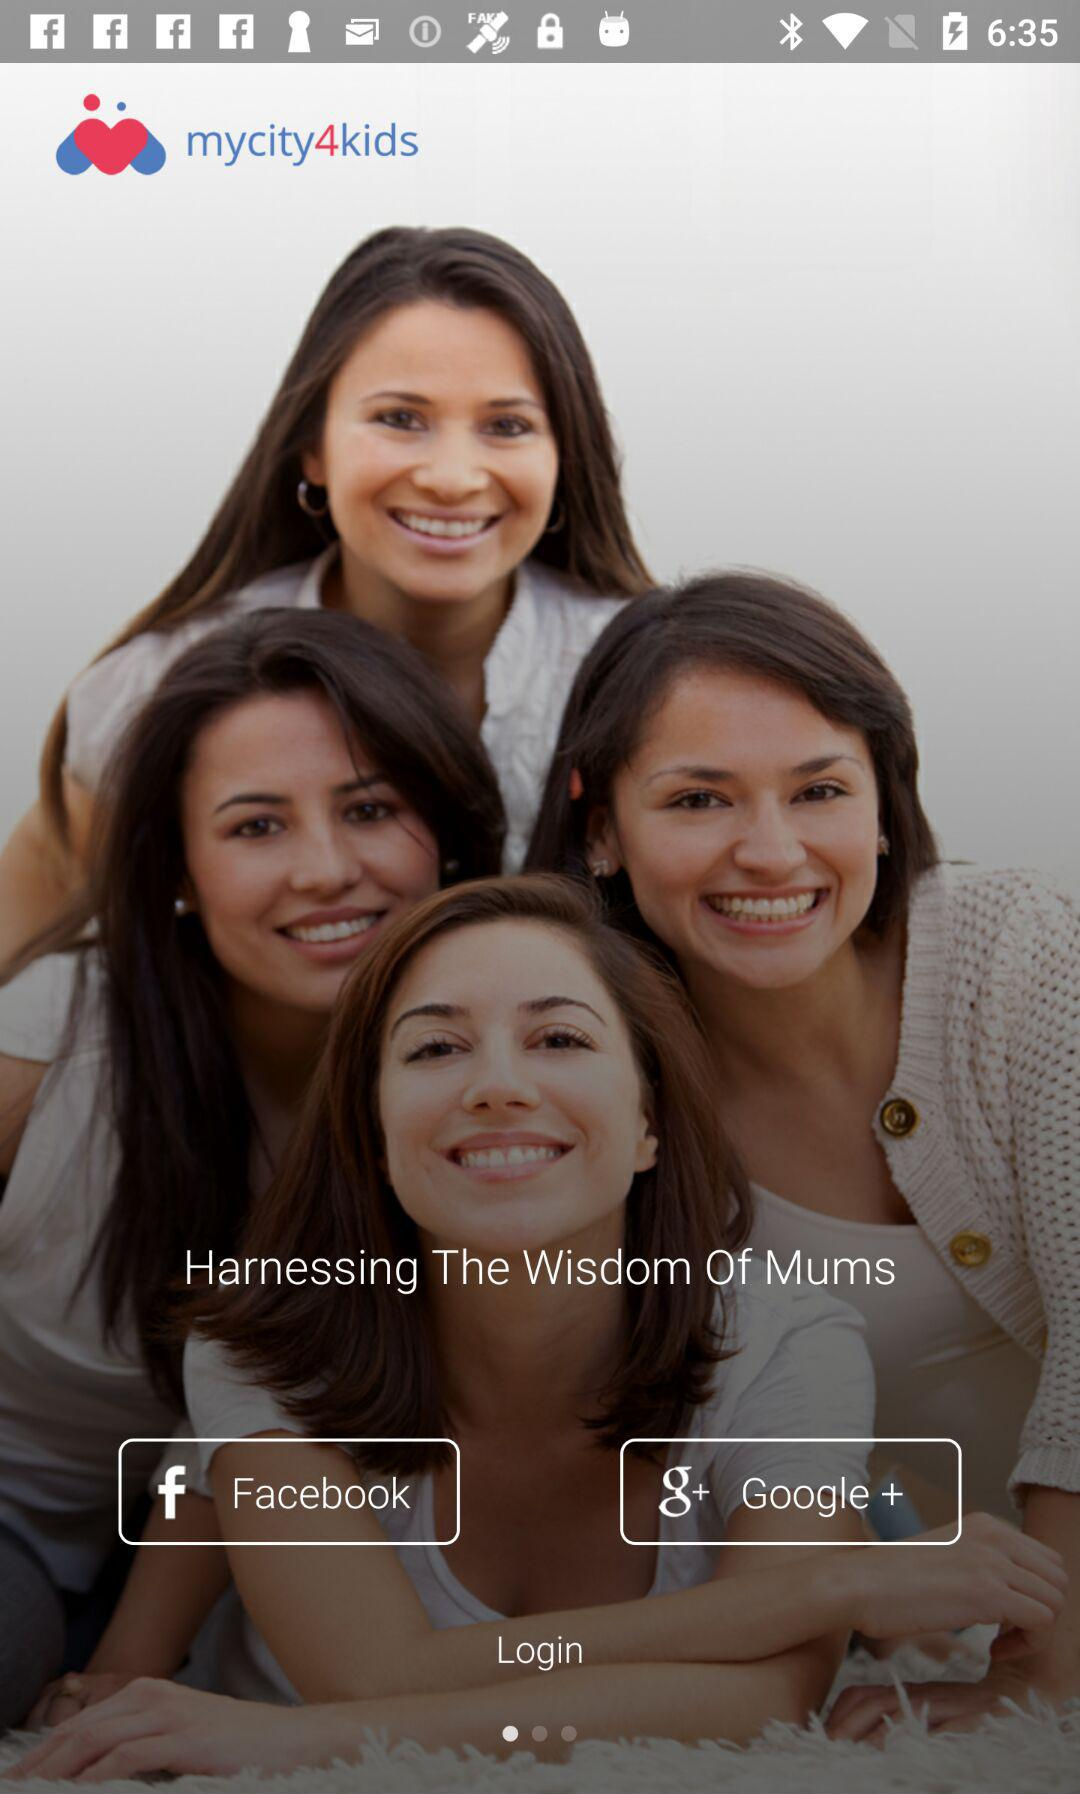BackgroundImage: (1, 64, 1080, 1794)
Image: (53, 91, 418, 176)
PageIndicator: (501, 1724, 579, 1745)
Text: (186, 1247, 896, 1296), (497, 1633, 584, 1674)
TextButton: (619, 1436, 963, 1545), (118, 1438, 462, 1545)
UpperTaskBar: (1, 1, 1080, 64)
